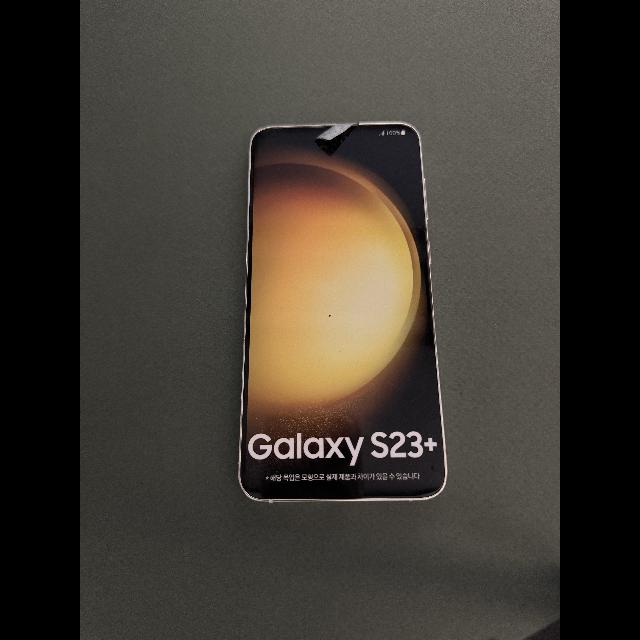phone: (239, 122, 446, 502)
sticker: (315, 123, 357, 141)
